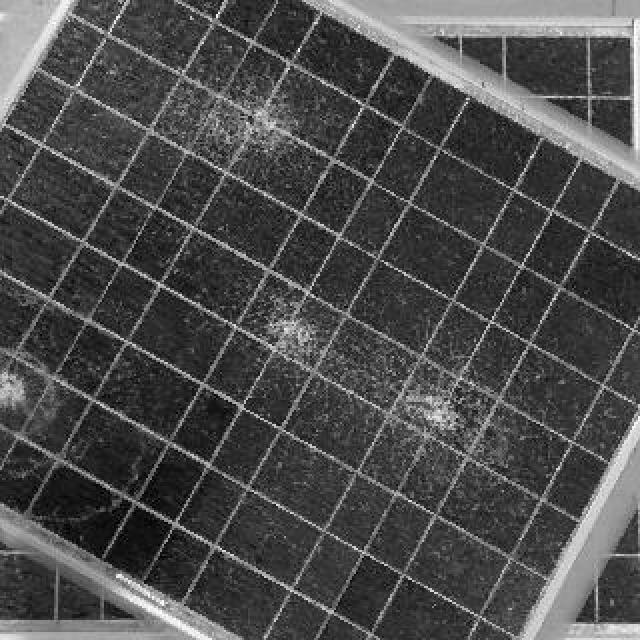Dusty: (3, 5, 640, 640)
Physical-damage: (199, 85, 313, 163), (255, 287, 326, 366), (5, 341, 49, 446), (401, 385, 473, 446)
